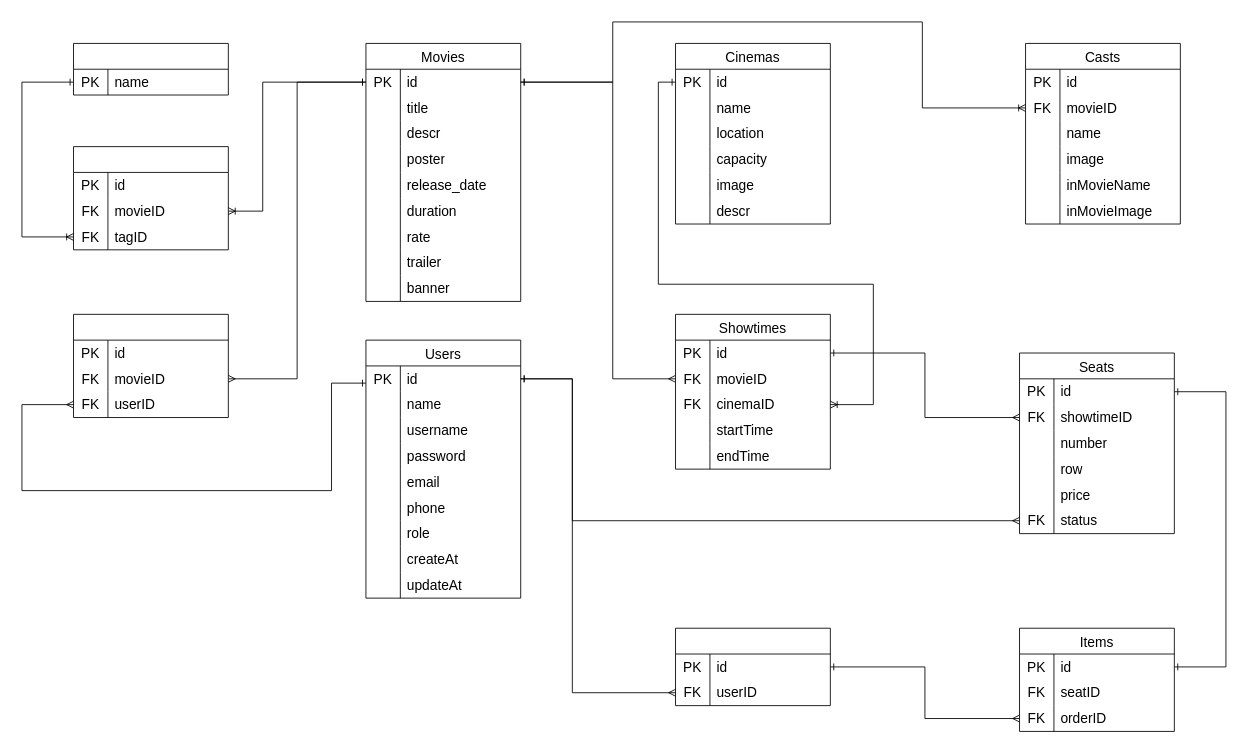
The diagram is 1249 pixels wide and 746 high, and some of its shapes have lost their labels. The box of each missing label's shape, as (x1, y1, x2, y2) in pixels:
Favorites: (73, 313, 228, 418)
MovieTags: (73, 146, 228, 250)
Orders: (675, 627, 830, 706)
Tags: (73, 43, 228, 95)
